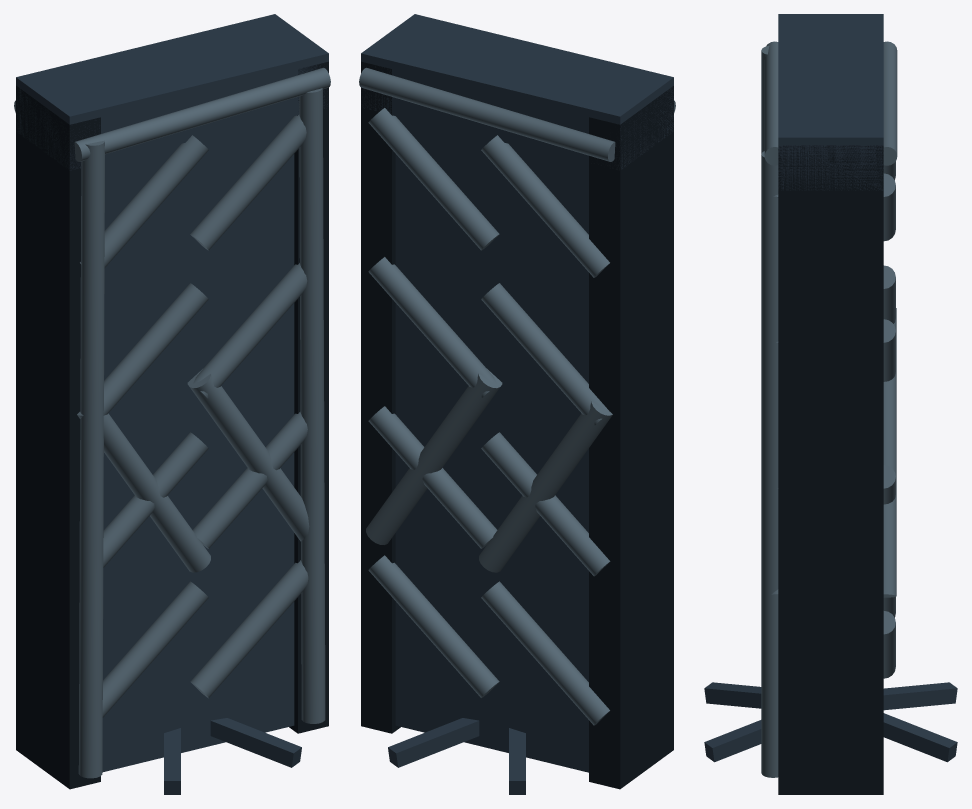
The model's file is CMU3DHiveDoorXenoResinWeedbound.glb.
3 views of the same model, side by side, from view 1: azimuth 30°, elevation 25°; view 2: azimuth 150°, elevation 25°; view 3: azimuth 270°, elevation 25° (orthographic). The views are drawn at different scales.
Visible parts, largest first — view 1: retracting organic leaf (×2), solid resin jamb (×2), jamb tendon (×2), leaf sweeping tendon (×8), resin lintel, branching membrane seam (×2), lintel rib, anchoring root (×2); view 2: retracting organic leaf (×2), solid resin jamb (×2), leaf sweeping tendon (×8), resin lintel, branching membrane seam (×2), lintel rib, anchoring root (×2); view 3: solid resin jamb, resin lintel, jamb tendon (×2), anchoring root (×4), lintel rib (×2), leaf sweeping tendon (×5), branching membrane seam.
Boxes of the visible parts, x1,y1,x2,y2 form: retracting organic leaf (×2): [102, 116, 294, 771]; solid resin jamb (×2): [16, 61, 328, 789]; jamb tendon (×2): [78, 88, 325, 778]; leaf sweeping tendon (×8): [80, 114, 308, 717]; resin lintel: [16, 14, 328, 170]; branching membrane seam (×2): [77, 369, 309, 572]; lintel rib: [74, 67, 330, 161]; anchoring root (×2): [164, 718, 301, 794]; retracting organic leaf (×2): [395, 116, 588, 772]; solid resin jamb (×2): [361, 61, 673, 789]; leaf sweeping tendon (×8): [368, 108, 610, 725]; resin lintel: [361, 14, 673, 170]; branching membrane seam (×2): [366, 369, 612, 572]; lintel rib: [359, 67, 615, 161]; anchoring root (×2): [388, 718, 525, 794]; solid resin jamb: [778, 145, 883, 794]; resin lintel: [778, 14, 883, 190]; jamb tendon (×2): [761, 45, 778, 777]; anchoring root (×4): [704, 682, 957, 762]; lintel rib (×2): [764, 41, 897, 165]; leaf sweeping tendon (×5): [883, 173, 895, 678]; branching membrane seam: [883, 362, 896, 597].
Bounding box in the file's own units: 1 × 2.48 × 0.8662.
